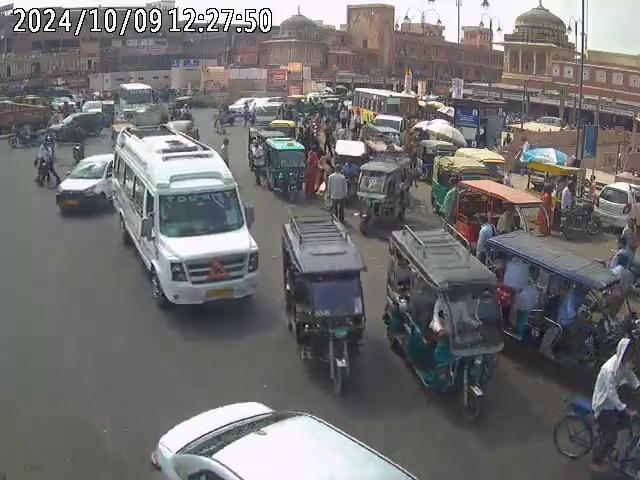auto: (379, 224, 509, 417), (482, 230, 632, 376), (280, 216, 368, 396), (452, 177, 547, 249), (355, 157, 411, 232), (260, 133, 307, 202), (594, 180, 639, 233)
bicycle-rider: (551, 335, 640, 480)
bus: (108, 127, 259, 322), (347, 86, 414, 140), (116, 84, 163, 132)
car: (151, 400, 426, 479), (55, 151, 118, 214)
person: (322, 164, 350, 224), (32, 137, 58, 187)
